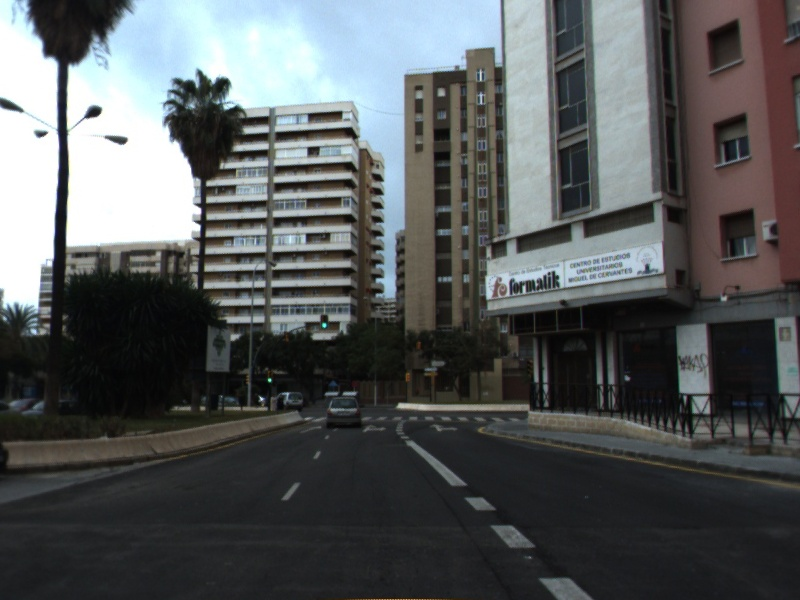STRAIGHT: (297, 424, 323, 435)
STRAIGHT_RIGHT: (428, 421, 461, 434), (360, 423, 388, 434)
